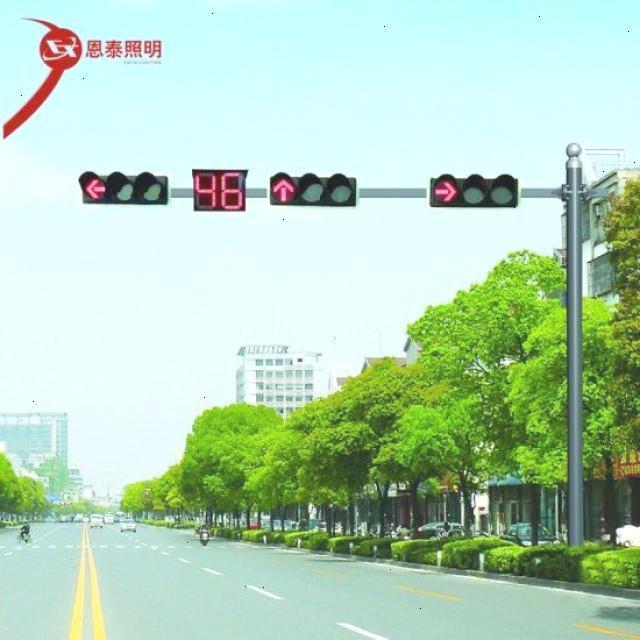red_light: (66, 153, 185, 232), (424, 148, 530, 222), (264, 162, 380, 228), (186, 150, 260, 239)
